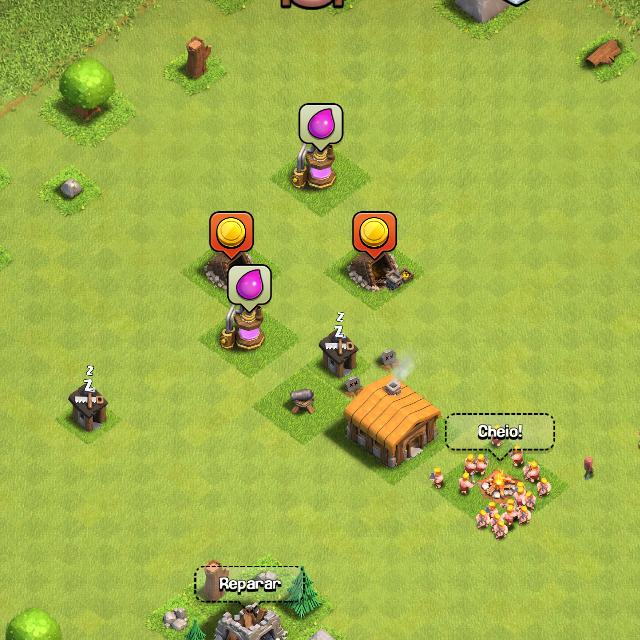Elixir: (298, 105, 344, 150), (229, 266, 270, 312)
FullCoin: (211, 212, 255, 260), (354, 212, 397, 257)
